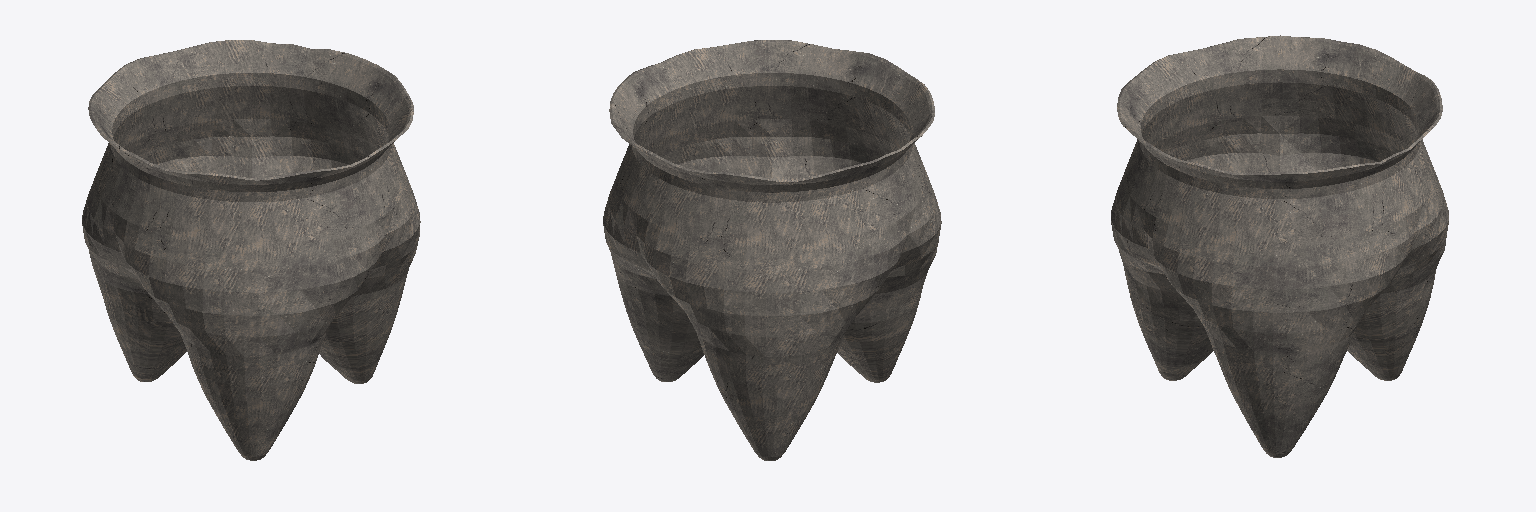
3 renders of one model, left to right at view 1: azimuth 30°, elevation 25°; view 2: azimuth 150°, elevation 25°; view 3: azimuth 270°, elevation 25°, orthographic.
Visible parts, largest first — view 1: polySurface27; view 2: polySurface27; view 3: polySurface27.
Part boxes in pixels (bbox=[...]): polySurface27: bbox=[82, 40, 420, 460]; polySurface27: bbox=[603, 40, 941, 460]; polySurface27: bbox=[1111, 35, 1448, 457].
Size of the model in its own units: 10.41 by 10.28 by 10.49.
Materials: 1 (1 with a texture image).